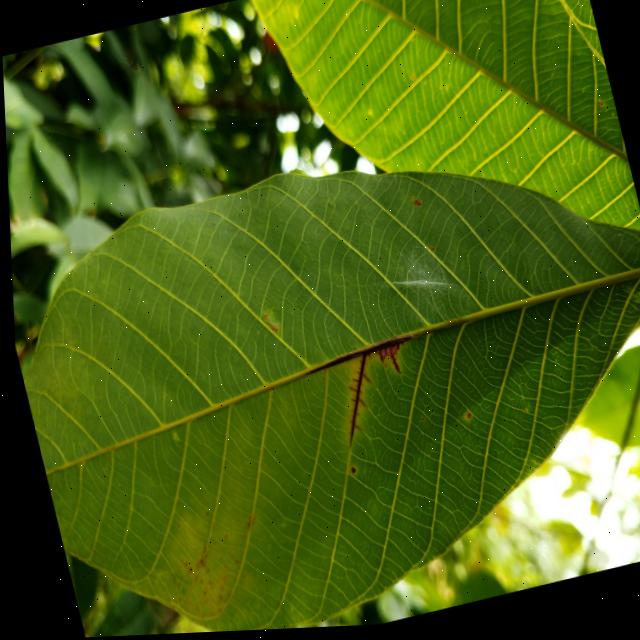Colletotrichum: (346, 470, 351, 478), (462, 418, 467, 423), (417, 422, 419, 424)
Corynespora: (299, 338, 416, 397), (323, 356, 383, 452)
